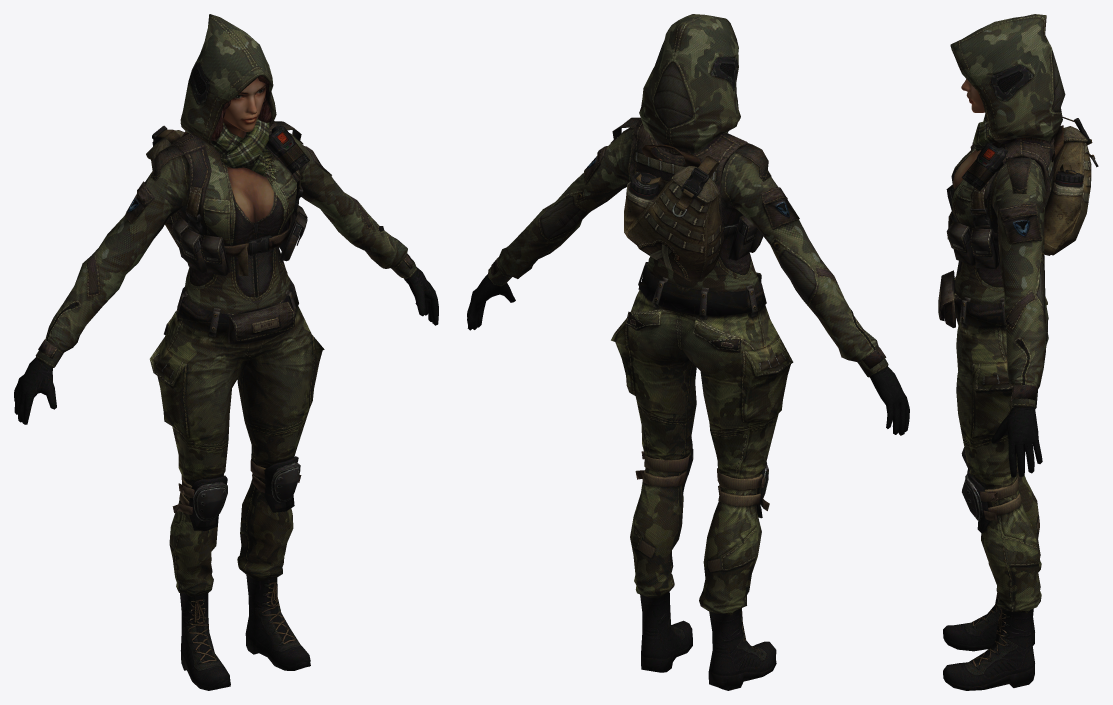
File: aurora.obj
The picture shows the model from 3 angles, left to right: view 1: azimuth 30°, elevation 25°; view 2: azimuth 150°, elevation 25°; view 3: azimuth 270°, elevation 25°; orthographic projection. The views are drawn at different scales.
Visible parts, largest first — view 1: body, head; view 2: body, head; view 3: head, body.
Part boxes in pixels (box(x1,y1,x2,y2)): body: box(149, 160, 324, 690); head: box(14, 14, 438, 424); body: box(611, 180, 793, 690); head: box(467, 14, 909, 435); head: box(947, 14, 1095, 477); body: box(938, 142, 1098, 690).
Size of the model in its own units: 56.2 by 82.19 by 18.38.
Materials: 2 (2 with a texture image).
